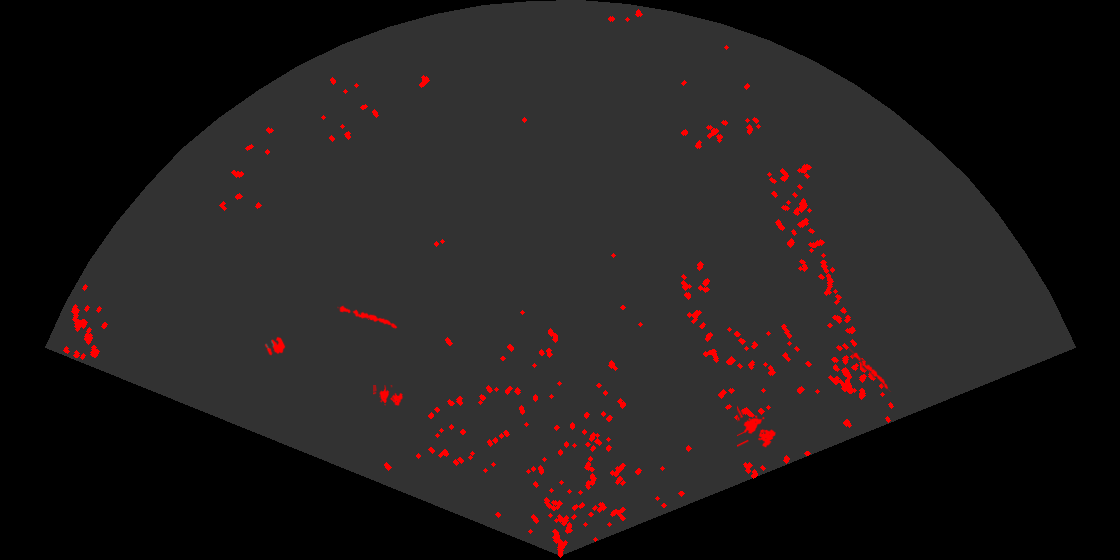ball: (263, 335, 287, 357)
cage: (737, 404, 778, 449), (373, 385, 405, 407)
chain: (849, 346, 893, 392), (337, 304, 399, 330)
